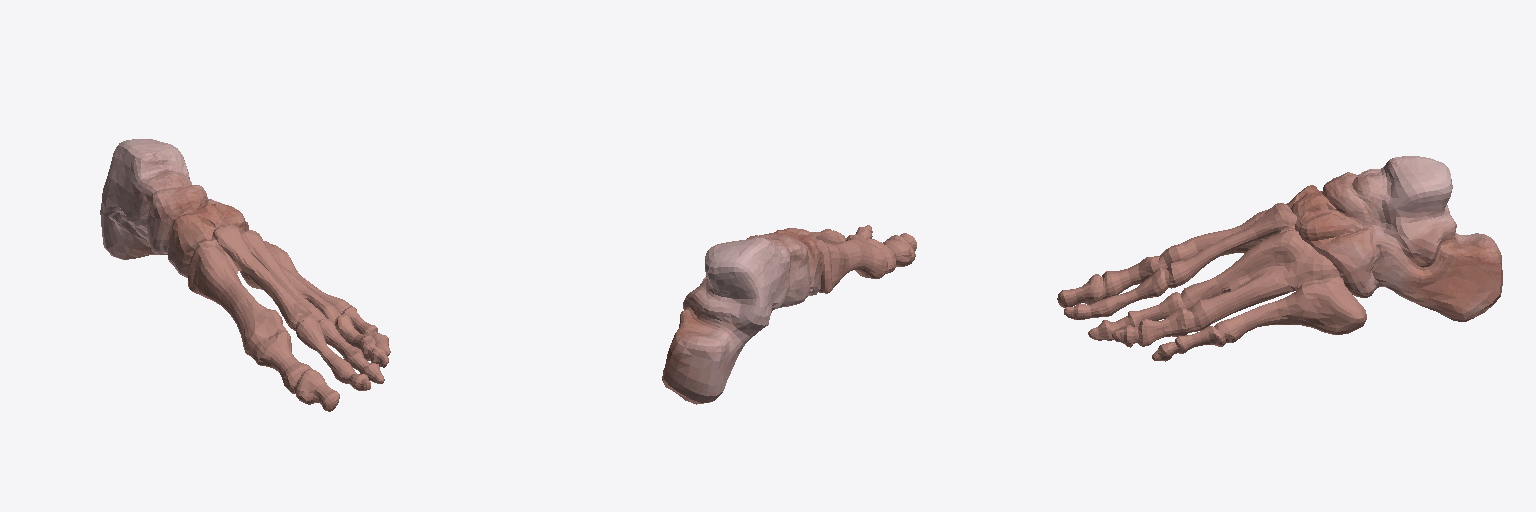
3 renders of one model, left to right at view 1: azimuth 30°, elevation 25°; view 2: azimuth 150°, elevation 25°; view 3: azimuth 270°, elevation 25°, orthographic.
Visible parts, largest first — view 1: Group5, ZBrush_defualt_group; view 2: ZBrush_defualt_group, Group5; view 3: Group5, ZBrush_defualt_group.
Part boxes in pixels (x1,y1,x2,y2): Group5: (188, 224, 390, 411); ZBrush_defualt_group: (100, 139, 248, 277); ZBrush_defualt_group: (662, 230, 821, 404); Group5: (784, 225, 916, 293); Group5: (1057, 203, 1366, 361); ZBrush_defualt_group: (1286, 156, 1502, 321).
Size of the model in its own units: 0.8031 by 0.736 by 2.03.
1 materials, 1 textured.